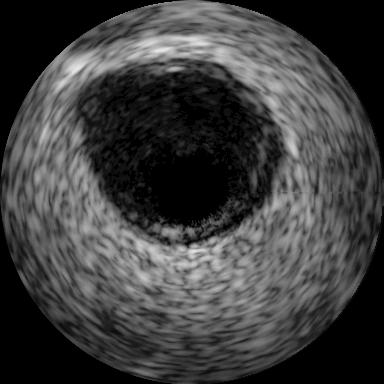Lumen: (149, 146, 234, 227)
